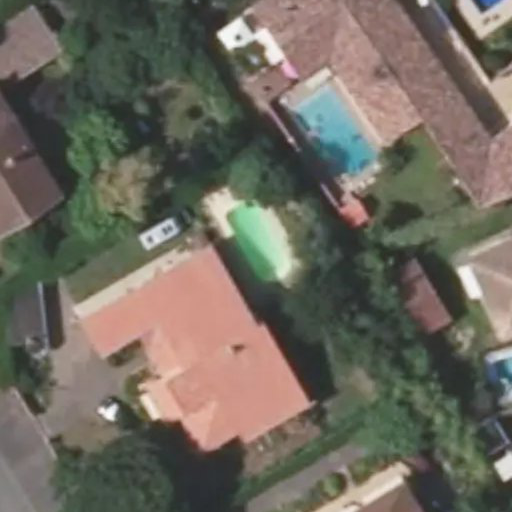pool: (216, 213, 296, 270)
